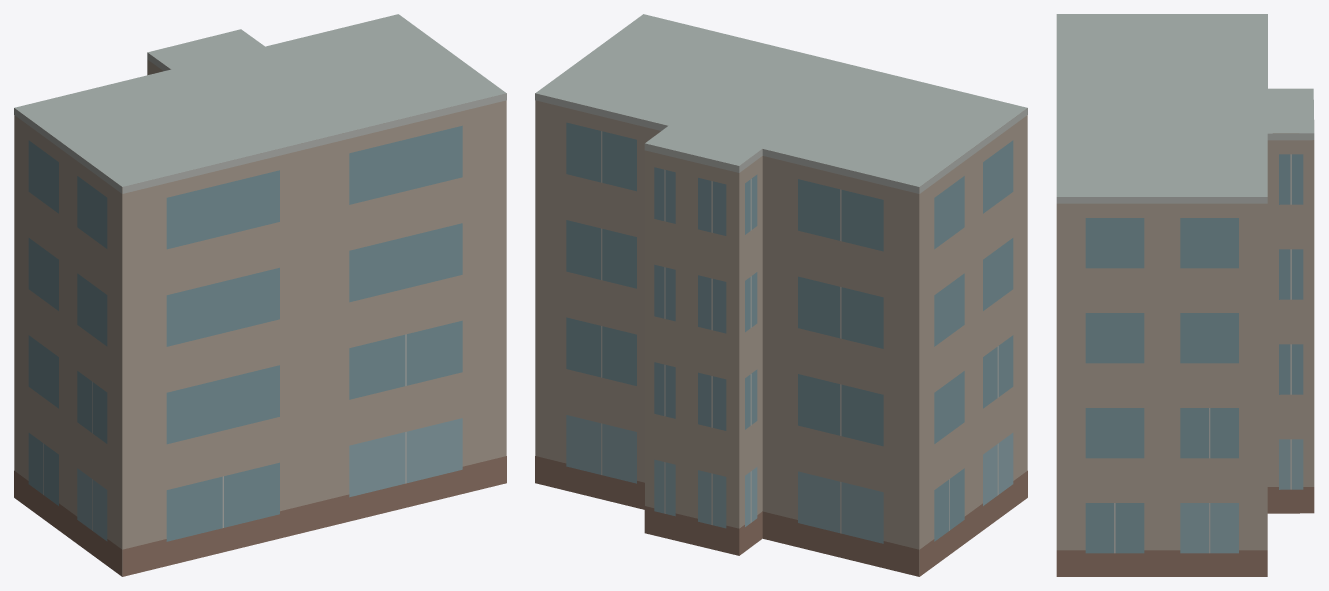
Rendered from survey-upis-32510328.glb.
3 views of the same model, side by side, from view 1: azimuth 30°, elevation 25°; view 2: azimuth 150°, elevation 25°; view 3: azimuth 270°, elevation 25° (orthographic). The views are drawn at different scales.
Visible parts, largest first — view 1: survey-upis-32510328.tmp; view 2: survey-upis-32510328.tmp; view 3: survey-upis-32510328.tmp.
Part boxes in pixels (x1,y1,x2,y2): survey-upis-32510328.tmp: (14,14,506,576); survey-upis-32510328.tmp: (535,14,1027,576); survey-upis-32510328.tmp: (1056,14,1314,576).
Size of the model in its own units: 14.05 by 13.6 by 8.37.
